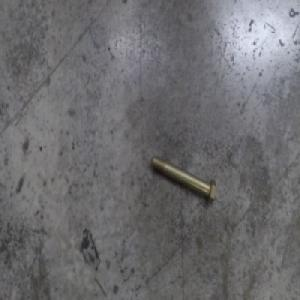Bolt: (150, 151, 217, 205)
